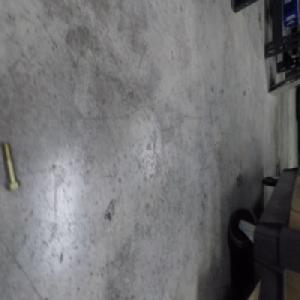Bolt: (1, 138, 22, 193)
